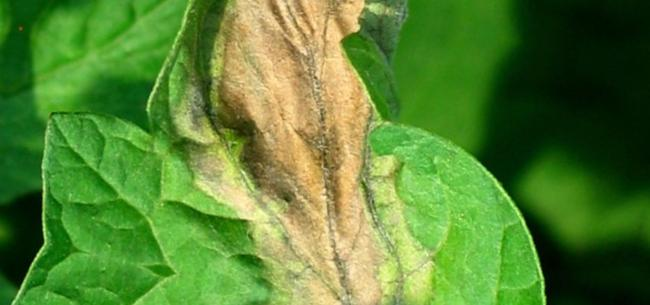Tomato leaf late blight: (0, 0, 612, 305)
